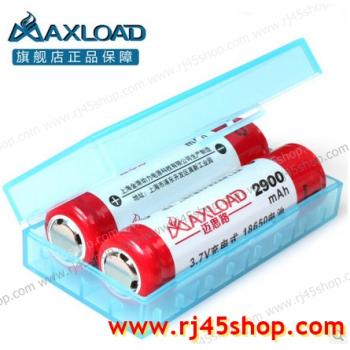Battery: (89, 138, 331, 302)
